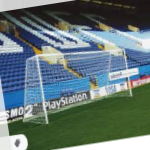goals: (23, 47, 134, 124)
